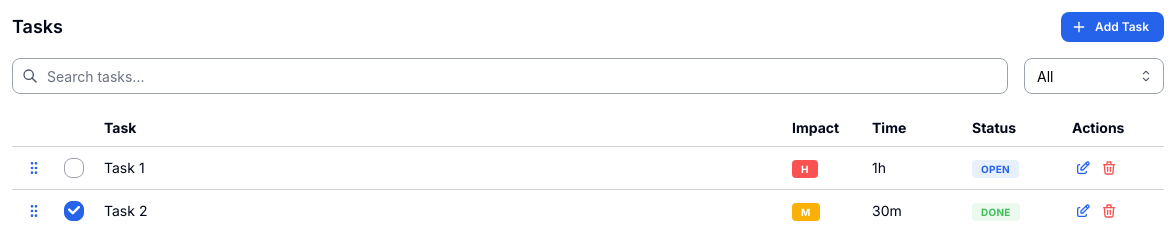
it: TasksTable › Filtering › filters tasks by search query
The width and height of the screenshot is (1176, 238).
Type "Task 1" into the field with placeholder "Search tasks...".
click(510, 76); type("Task 1")  # box [12, 58, 1008, 94]
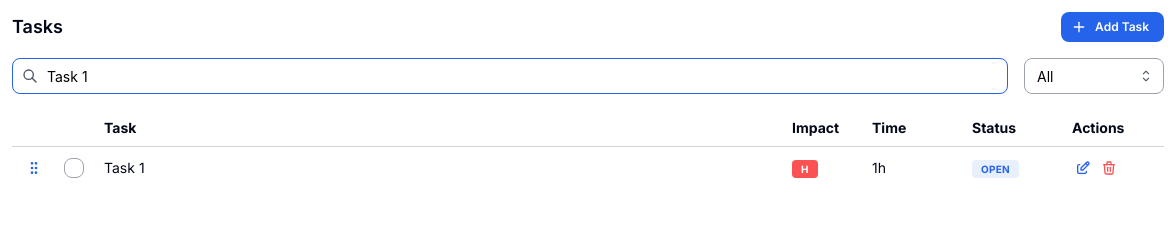
Check: the text "Task 1" is shown, box [104, 158, 145, 176]
Check: the text "Task 2" is gone
